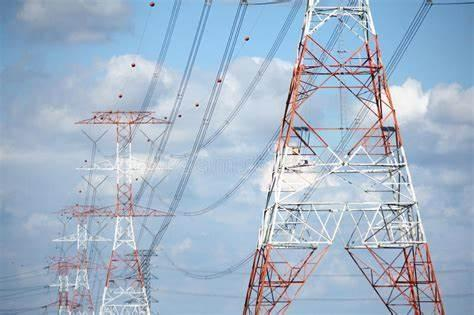power_tower: (73, 101, 176, 315), (54, 196, 106, 315)
